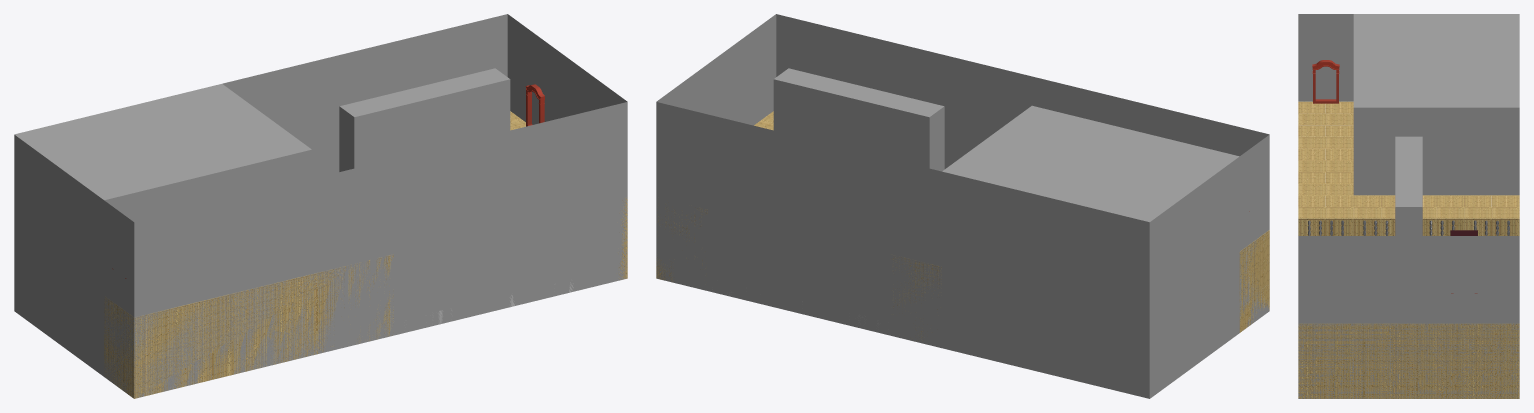
File: Floor_1.5_03.fbx
The picture shows the model from 3 angles, left to right: view 1: azimuth 30°, elevation 25°; view 2: azimuth 150°, elevation 25°; view 3: azimuth 270°, elevation 25°; orthographic projection. The views are drawn at different scales.
Parts seen in each view (by area): view 1: pCube13, Wall_04, pCube9, polySurface91, polySurface92, polySurface90, polySurface89, polySurface108, polySurface95, polySurface93, polySurface96, polySurface101 (+12 smaller); view 2: pCube13, Wall_04, pCube9; view 3: pCube13, Wall_04, pCube9, polySurface220 (×2), polySurface193 (×2), polySurface202 (×2), polySurface211 (×2), polySurface247 (×2), polySurface184 (×2), polySurface238 (×2), polySurface229 (×2), polySurface245 (+39 smaller).
Part boxes in pixels (x1=…): pCube13: x1=14, y1=14, x2=627, y2=397; Wall_04: x1=14, y1=84, x2=311, y2=374; pCube9: x1=339, y1=68, x2=510, y2=171; polySurface91: x1=119, y1=362, x2=160, y2=398; polySurface92: x1=119, y1=335, x2=160, y2=371; polySurface90: x1=119, y1=307, x2=160, y2=344; polySurface89: x1=160, y1=305, x2=185, y2=337; polySurface108: x1=290, y1=273, x2=315, y2=306; polySurface95: x1=212, y1=292, x2=237, y2=325; polySurface93: x1=212, y1=347, x2=237, y2=379; polySurface96: x1=186, y1=298, x2=211, y2=331; polySurface101: x1=264, y1=279, x2=289, y2=312; pCube13: x1=656, y1=14, x2=1269, y2=398; Wall_04: x1=942, y1=105, x2=1239, y2=398; pCube9: x1=773, y1=68, x2=944, y2=171; pCube13: x1=1298, y1=14, x2=1519, y2=398; Wall_04: x1=1353, y1=14, x2=1519, y2=195; pCube9: x1=1395, y1=136, x2=1422, y2=235; polySurface220 (×2): x1=1353, y1=207, x2=1381, y2=348; polySurface193 (×2): x1=1492, y1=207, x2=1519, y2=348; polySurface202 (×2): x1=1298, y1=207, x2=1325, y2=348; polySurface211 (×2): x1=1326, y1=207, x2=1353, y2=348; polySurface247 (×2): x1=1436, y1=207, x2=1464, y2=348; polySurface184 (×2): x1=1464, y1=207, x2=1491, y2=348; polySurface238 (×2): x1=1409, y1=207, x2=1436, y2=348; polySurface229 (×2): x1=1381, y1=207, x2=1408, y2=348; polySurface245: x1=1436, y1=374, x2=1464, y2=398.
Bounding box in the file's own units: 38 × 13 × 16.
